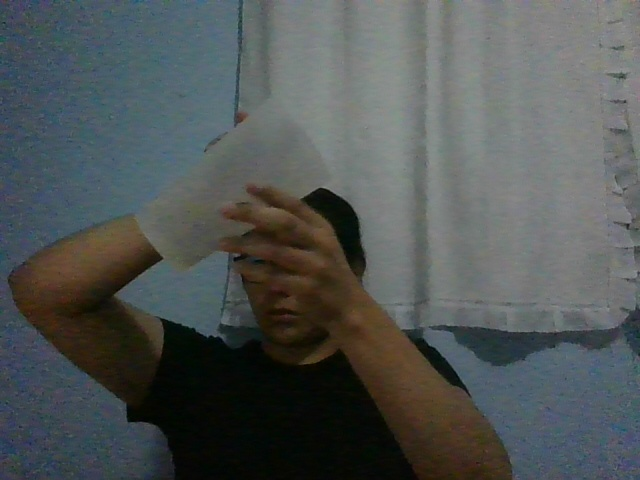vaso: (132, 96, 335, 272)
